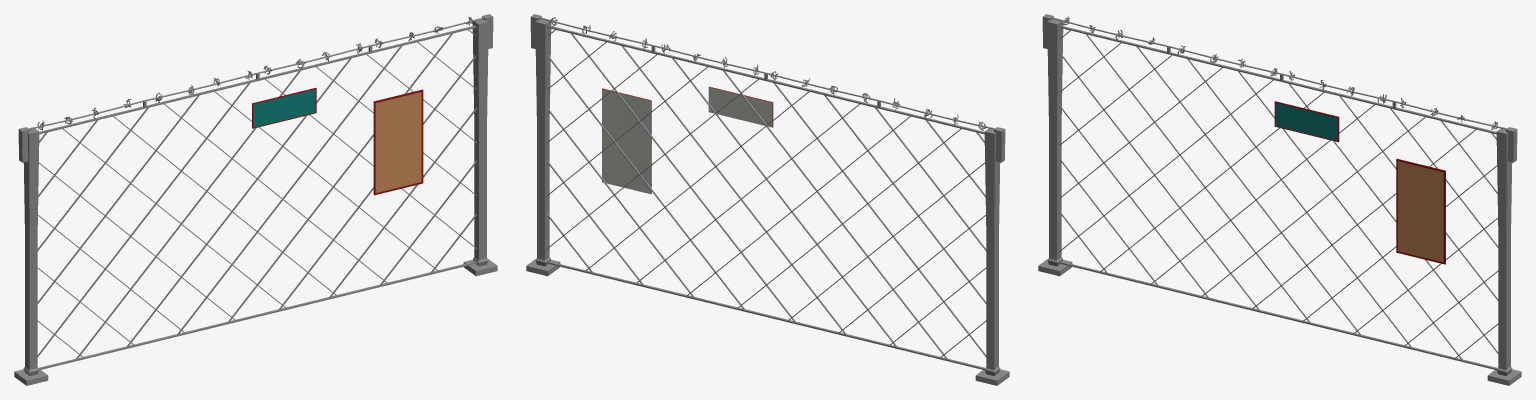
Rendered from sm_murospinato.fbx.
3 renders of one model, left to right at view 1: azimuth 30°, elevation 25°; view 2: azimuth 150°, elevation 25°; view 3: azimuth 330°, elevation 25°, orthographic.
Visible parts, largest first — view 1: murospinato; view 2: murospinato; view 3: murospinato.
Boxes of the visible parts, bbox=[...] form: murospinato: bbox=[14, 14, 497, 385]; murospinato: bbox=[526, 14, 1009, 385]; murospinato: bbox=[1038, 14, 1521, 385].
Size of the model in its own units: 532 by 277 by 24.57.
